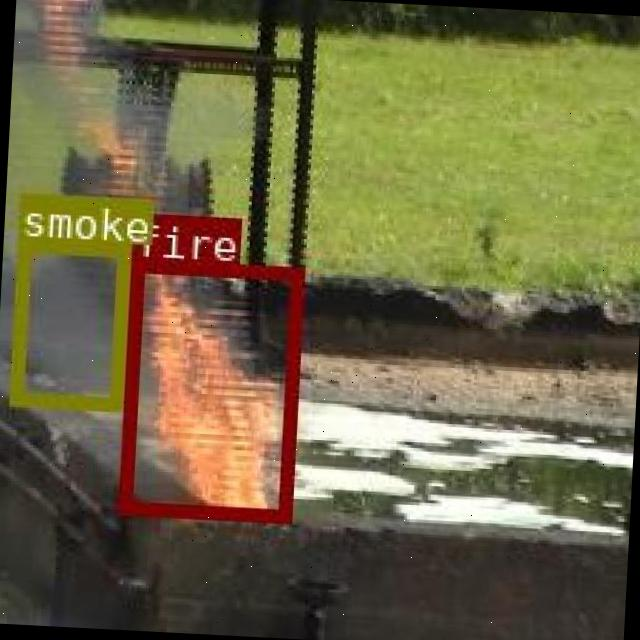fire: (118, 258, 302, 520)
smoke: (8, 237, 127, 409)
